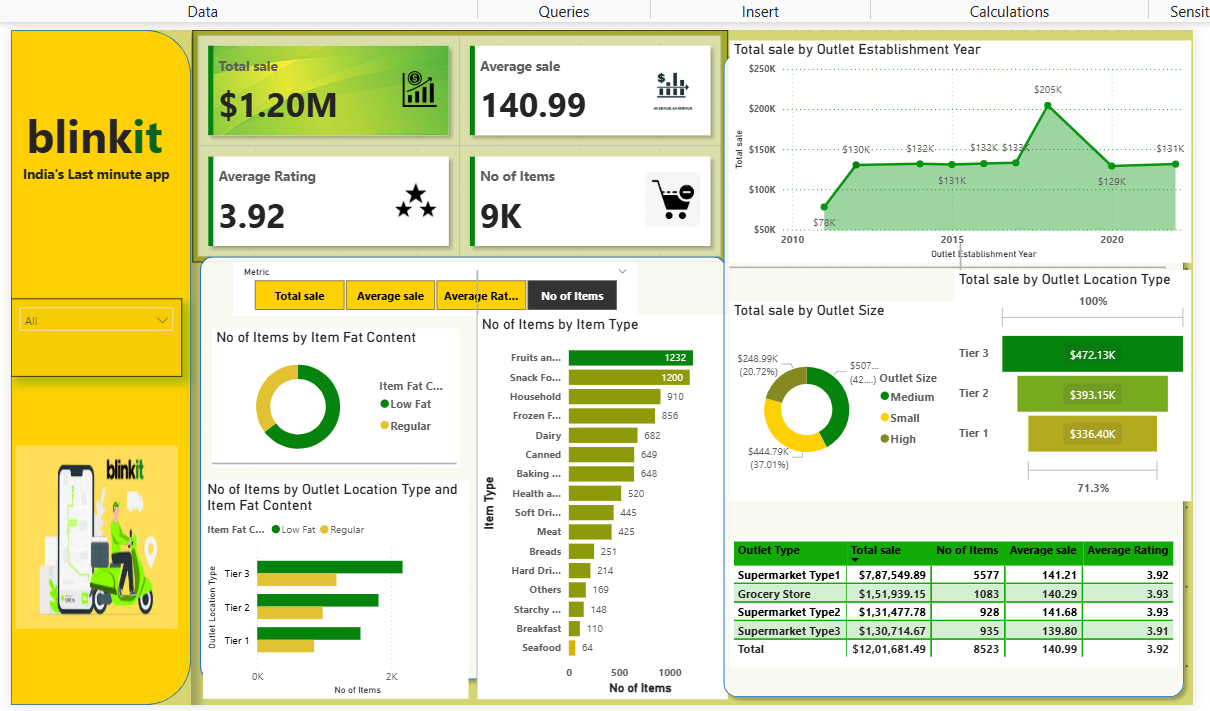

What the dashboard file says about the page in this screenshot:
{"tool":"powerbi","page":{"name":"Page 1","canvas":[1400,800],"ordinal":0},"visuals":[{"type":"shape","box":[0,0,213.3,800],"z":0},{"type":"textbox","box":[0,83.6,250.7,138.7],"z":1000},{"type":"cardVisual","fields":{"Data":["All measure.Total sale","All measure.Average sale","All measure.Average Rating","All measure.No of Items"]},"box":[215.1,0,634.7,275.6],"z":2000},{"type":"shape","box":[215.1,259.6,641.8,519.1],"z":3000},{"type":"donutChart","fields":{"Y":["All measure.No of Items"],"Category":["BlinkIT Grocery Data.Item Fat Content"]},"box":[238.2,353.8,293.3,165.3],"z":4000},{"type":"slicer","fields":{"Values":["Metric.Metric"]},"box":[263.2,275.4,478.9,63.2],"z":5000},{"type":"clusteredBarChart","fields":{"Y":["All measure.No of Items"],"Category":["BlinkIT Grocery Data.Outlet Location Type"],"Series":["BlinkIT Grocery Data.Item Fat Content"]},"box":[227.6,533.3,314.7,259.6],"z":6000},{"type":"shape","box":[238.2,494.2,289.8,39.1],"z":7000},{"type":"shape","box":[540.4,284.4,24.9,496],"z":8000},{"type":"barChart","fields":{"Y":["All measure.No of Items"],"Category":["BlinkIT Grocery Data.Item Type"]},"box":[552.9,337.8,296.9,455.1],"z":9000},{"type":"shape","box":[835.6,19.6,563.6,780.4],"z":10000},{"type":"lineChart","fields":{"Y":["All measure.Total sale"],"Category":["BlinkIT Grocery Data.Outlet Establishment Year"]},"box":[851.6,12.4,547.6,263.1],"z":11000},{"type":"shape","box":[850.9,245.6,517.5,71.9],"z":12000},{"type":"donutChart","fields":{"Y":["All measure.Total sale"],"Category":["BlinkIT Grocery Data.Outlet Size"]},"box":[851.6,321.8,273.8,236.4],"z":13000},{"type":"shape","box":[1109.3,252.4,32,234.7],"z":14000},{"type":"funnel","fields":{"Y":["All measure.Total sale"],"Category":["BlinkIT Grocery Data.Outlet Location Type"]},"box":[1118.2,284.4,280.9,273.8],"z":15000},{"type":"pivotTable","fields":{"Rows":["BlinkIT Grocery Data.Outlet Type"],"Values":["All measure.Total sale","All measure.No of Items","All measure.Average sale","All measure.Average Rating"]},"box":[851.6,600.9,531.6,154.7],"z":16000},{"type":"slicer","fields":{"Values":["BlinkIT Grocery Data.Outlet Location Type"]},"box":[0,318.2,202.7,92.4],"z":17000},{"type":"image","box":[0,487.1,202.7,227.6],"z":18000}]}

Visuals, with their boxes on the page's 1400x800 design canvas (x1, y1, x2, y2). These are canvas units, not pixel positions in the 1210x711 screenshot, which may show the page scaled, cropped or inside an application window:
shape: {"left": 0, "top": 0, "right": 213, "bottom": 800}
textbox: {"left": 0, "top": 84, "right": 251, "bottom": 222}
cardVisual - All measure.Total sale x All measure.Average sale: {"left": 215, "top": 0, "right": 850, "bottom": 276}
shape: {"left": 215, "top": 260, "right": 857, "bottom": 779}
donutChart - All measure.No of Items x BlinkIT Grocery Data.Item Fat Content: {"left": 238, "top": 354, "right": 532, "bottom": 519}
slicer - Metric.Metric: {"left": 263, "top": 275, "right": 742, "bottom": 339}
clusteredBarChart - All measure.No of Items x BlinkIT Grocery Data.Outlet Location Type: {"left": 228, "top": 533, "right": 542, "bottom": 793}
shape: {"left": 238, "top": 494, "right": 528, "bottom": 533}
shape: {"left": 540, "top": 284, "right": 565, "bottom": 780}
barChart - All measure.No of Items x BlinkIT Grocery Data.Item Type: {"left": 553, "top": 338, "right": 850, "bottom": 793}
shape: {"left": 836, "top": 20, "right": 1399, "bottom": 800}
lineChart - All measure.Total sale x BlinkIT Grocery Data.Outlet Establishment Year: {"left": 852, "top": 12, "right": 1399, "bottom": 276}
shape: {"left": 851, "top": 246, "right": 1368, "bottom": 318}
donutChart - All measure.Total sale x BlinkIT Grocery Data.Outlet Size: {"left": 852, "top": 322, "right": 1125, "bottom": 558}
shape: {"left": 1109, "top": 252, "right": 1141, "bottom": 487}
funnel - All measure.Total sale x BlinkIT Grocery Data.Outlet Location Type: {"left": 1118, "top": 284, "right": 1399, "bottom": 558}
pivotTable - BlinkIT Grocery Data.Outlet Type x All measure.Total sale: {"left": 852, "top": 601, "right": 1383, "bottom": 756}
slicer - BlinkIT Grocery Data.Outlet Location Type: {"left": 0, "top": 318, "right": 203, "bottom": 411}
image: {"left": 0, "top": 487, "right": 203, "bottom": 715}
